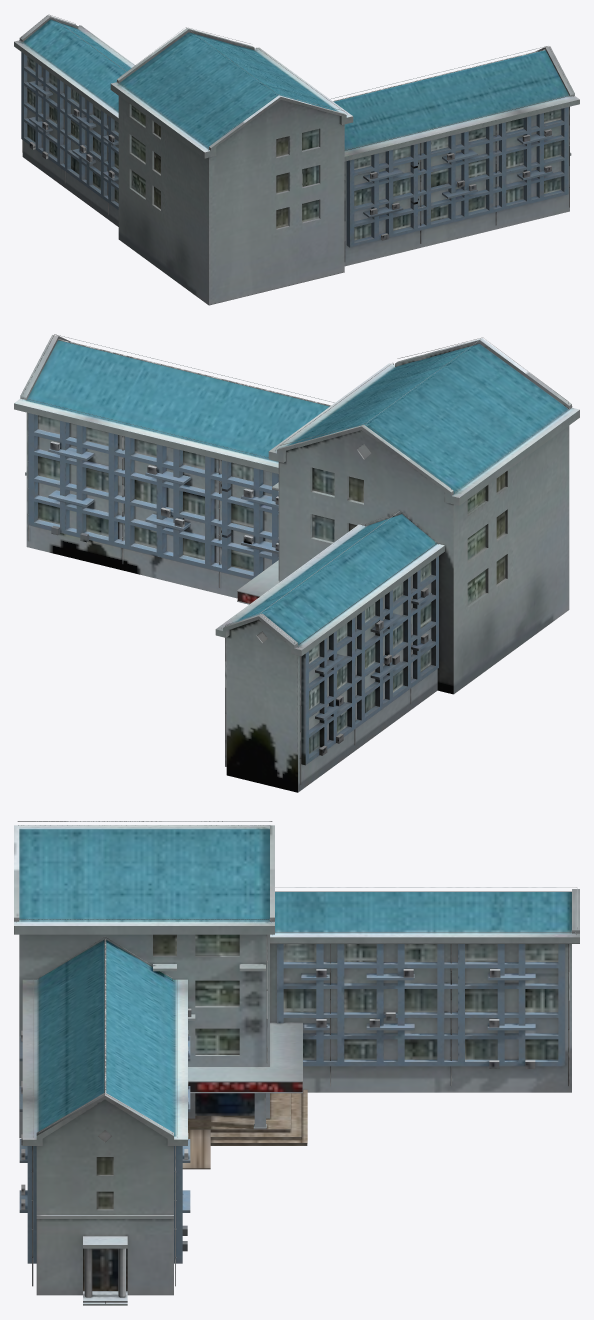
Rendered from build5YNSCYQ.glb.
3 views of the same model, one above another, from view 1: azimuth 30°, elevation 25°; view 2: azimuth 150°, elevation 25°; view 3: azimuth 270°, elevation 25° (orthographic). The views are drawn at different scales.
Parts seen in each view (by area): view 1: bulid5YNSCYQ; view 2: bulid5YNSCYQ; view 3: bulid5YNSCYQ.
Part boxes in pixels (left/top/right/bottom): bulid5YNSCYQ: left=14, top=14, right=579, bottom=305; bulid5YNSCYQ: left=14, top=334, right=579, bottom=792; bulid5YNSCYQ: left=14, top=821, right=579, bottom=1305.
Bounding box in the file's own units: 4298 × 2062 × 3901.
Materials: 1 (1 with a texture image).
